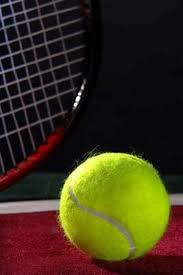tennis_ball: (59, 149, 170, 262)
